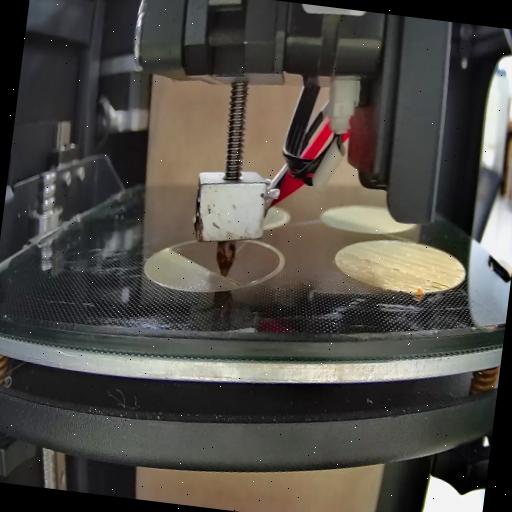under_extrusion: (340, 250, 402, 273), (420, 276, 450, 300), (454, 261, 466, 274)
